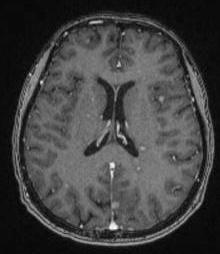Normal_Brain: (1, 1, 214, 254)
